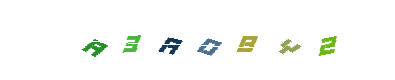2: (221, 0, 301, 80)
3: (131, 0, 211, 80)
A: (55, 0, 135, 80), (156, 0, 236, 80)
B: (172, 0, 252, 80)
O: (165, 0, 245, 80)
Y: (195, 0, 275, 80)
